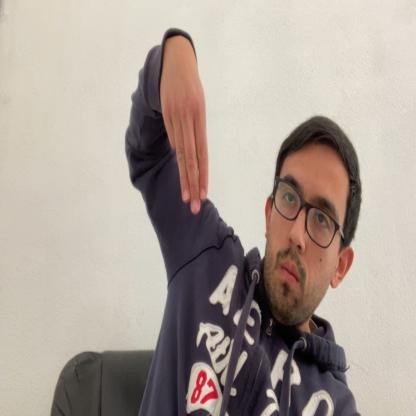M: (160, 32, 210, 215)
